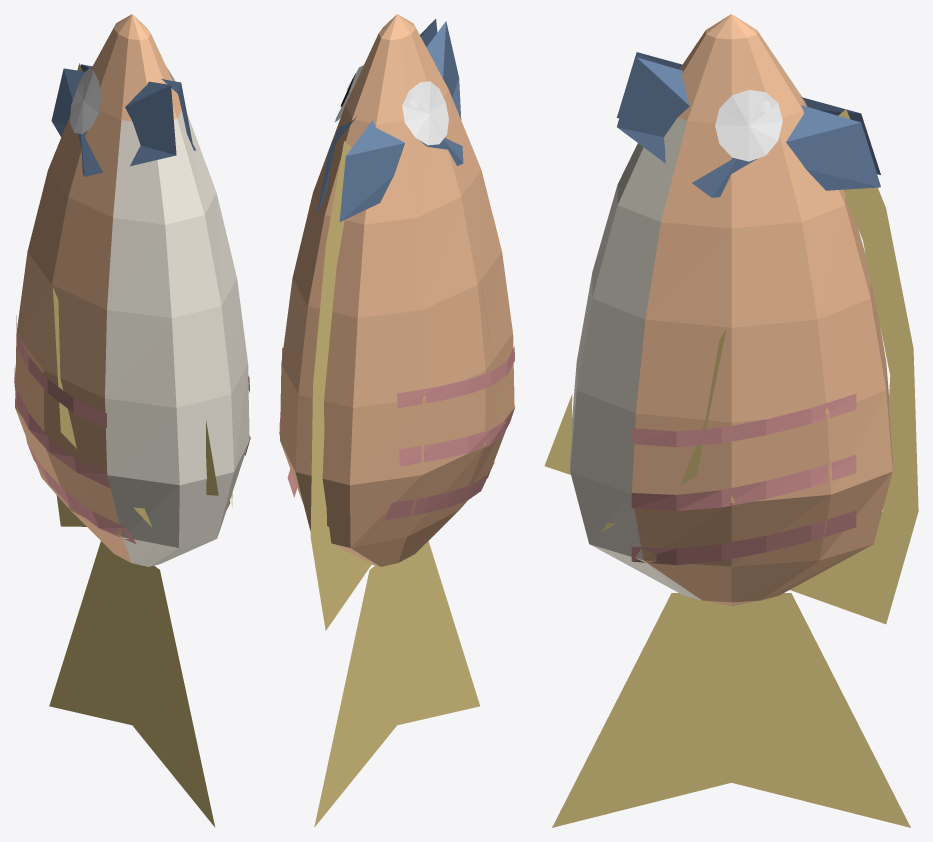
Rendered from fish_medium_001.glb.
3 views of the same model, side by side, from view 1: azimuth 30°, elevation 25°; view 2: azimuth 150°, elevation 25°; view 3: azimuth 270°, elevation 25° (orthographic). The views are drawn at different scales.
Parts seen in each view (by area): view 1: fishM_body; view 2: fishM_body; view 3: fishM_body.
Boxes of the visible parts, x1,y1,x2,y2 form: fishM_body: (14, 14, 250, 827); fishM_body: (279, 14, 515, 827); fishM_body: (544, 14, 918, 827).
Size of the model in its own units: 0.0447 by 0.18 by 0.075.
